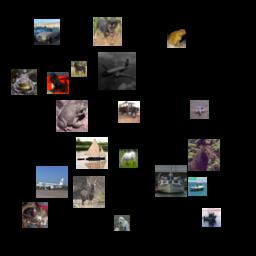airplane: (98, 52, 136, 90), (36, 166, 68, 198), (190, 100, 209, 119)
automobile: (34, 19, 60, 45)
cat: (22, 202, 48, 228)
deer: (73, 176, 105, 208)
dog: (93, 17, 122, 46), (47, 72, 69, 94), (114, 215, 130, 231)
frog: (56, 100, 88, 132), (11, 69, 37, 95), (167, 29, 186, 48)
ship: (76, 137, 108, 169), (155, 165, 187, 197), (188, 177, 207, 196), (202, 208, 221, 227)
truck: (118, 101, 140, 123)
